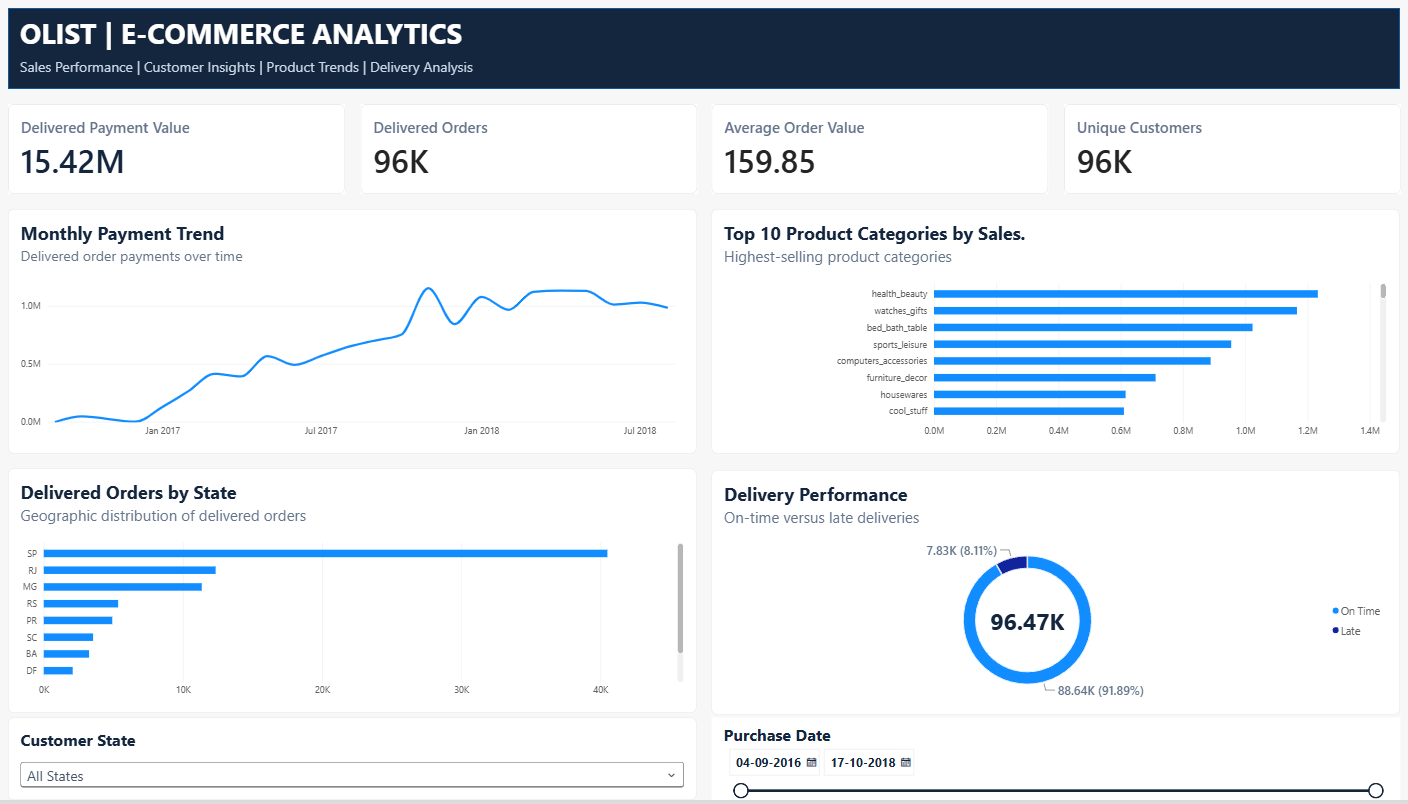

Layout of this report page (visuals, bound fields, positions):
{"tool":"powerbi","page":{"name":"Page 1","canvas":[1920,1080],"ordinal":0},"visuals":[{"type":"cardVisual","fields":{"Data":["public vw_order_summary.Delivered Payment Value"]},"box":[32,152,449,120],"z":0},{"type":"cardVisual","fields":{"Data":["public vw_order_summary.Delivered Orders"]},"box":[501,152,449,120],"z":1000},{"type":"cardVisual","fields":{"Data":["public vw_order_summary.Average Order Value"]},"box":[970,152,449,120],"z":2000},{"type":"cardVisual","fields":{"Data":["public vw_order_summary.Unique Customers"]},"box":[1439,152,449,120],"z":3000},{"type":"lineChart","title":"Monthly Payment Trend","fields":{"Category":["public vw_order_summary.purchase_month"],"Y":["public vw_order_summary.Delivered Payment Value"]},"box":[32,292,918,326],"z":4000},{"type":"clusteredBarChart","title":"Top 10 Product Categories by Sales.","fields":{"Category":["public vw_order_category_sales.category"],"Y":["Sum(public vw_order_category_sales.sales_value)"]},"box":[970,292,917,326],"z":5000},{"type":"clusteredBarChart","title":"Delivered Orders by State","fields":{"Category":["public vw_order_summary.customer_state"],"Y":["public vw_order_summary.Delivered Orders"]},"box":[32,638,918,326],"z":6000},{"type":"donutChart","title":"Delivery Performance","fields":{"Category":["public vw_delivery_performance.delivery_status"],"Y":["CountNonNull(public vw_delivery_performance.order_id)"]},"box":[970,640,918,326],"z":7000},{"type":"listSlicer","title":"Customer State","fields":{"Values":["public vw_order_summary.customer_state"]},"box":[32,970,918,110],"z":8000},{"type":"slicer","title":"Purchase Date","fields":{"Values":["public vw_order_summary.order_purchase_timestamp"]},"box":[970,970,918,110],"z":9000},{"type":"shape","box":[32,24,1856,108],"z":10000},{"type":"textbox","box":[47.5,32.4,627.7,49.6],"z":11000},{"type":"textbox","box":[47.5,70,627.7,53.9],"z":12000}]}

Visuals, with their boxes in screenshot pixels (x1, y1, x2, y2), scaled from the page's 1920x1080 canvas onto the 1408x804 screenshot:
cardVisual - public vw_order_summary.Delivered Payment Value: BBox(23, 113, 353, 202)
cardVisual - public vw_order_summary.Delivered Orders: BBox(367, 113, 697, 202)
cardVisual - public vw_order_summary.Average Order Value: BBox(711, 113, 1041, 202)
cardVisual - public vw_order_summary.Unique Customers: BBox(1055, 113, 1385, 202)
"Monthly Payment Trend" lineChart: BBox(23, 217, 697, 460)
"Top 10 Product Categories by Sales." clusteredBarChart: BBox(711, 217, 1384, 460)
"Delivered Orders by State" clusteredBarChart: BBox(23, 475, 697, 718)
"Delivery Performance" donutChart: BBox(711, 476, 1385, 719)
"Customer State" listSlicer: BBox(23, 722, 697, 803)
"Purchase Date" slicer: BBox(711, 722, 1385, 803)
shape: BBox(23, 18, 1385, 98)
textbox: BBox(35, 24, 495, 61)
textbox: BBox(35, 52, 495, 92)
